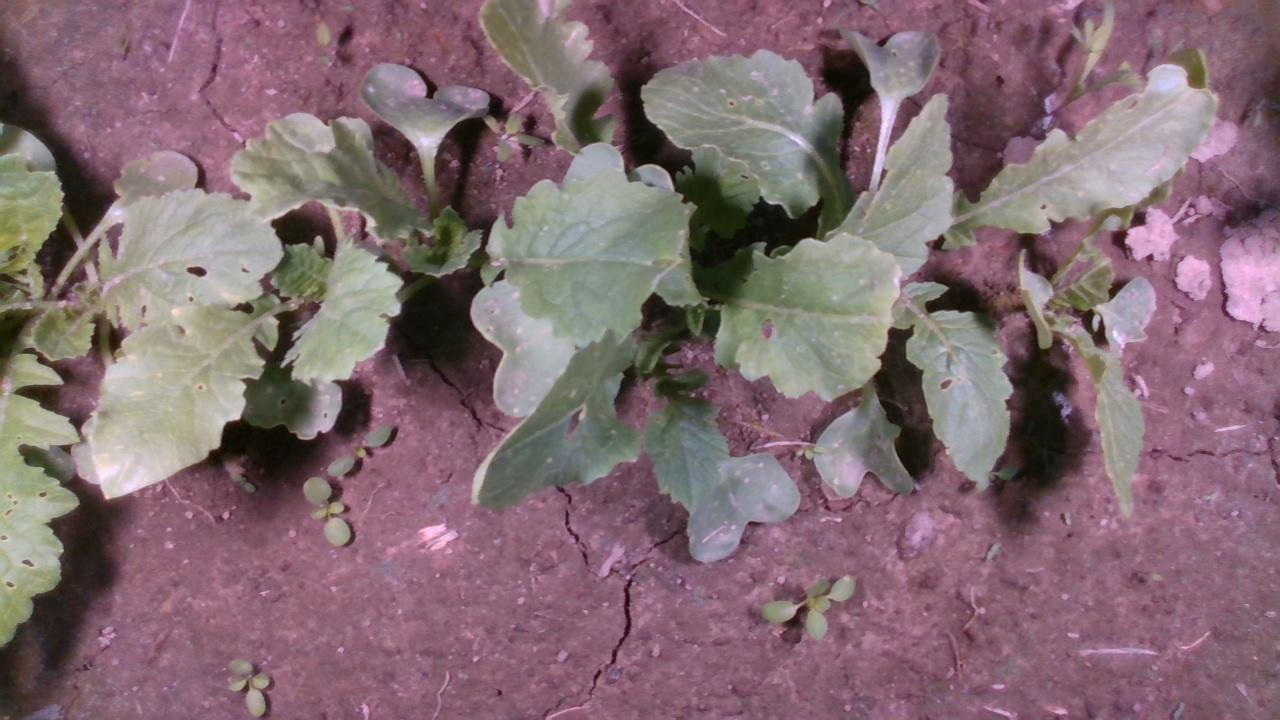weed: (756, 572, 856, 642), (324, 419, 393, 476), (300, 476, 351, 548), (225, 656, 272, 717)
